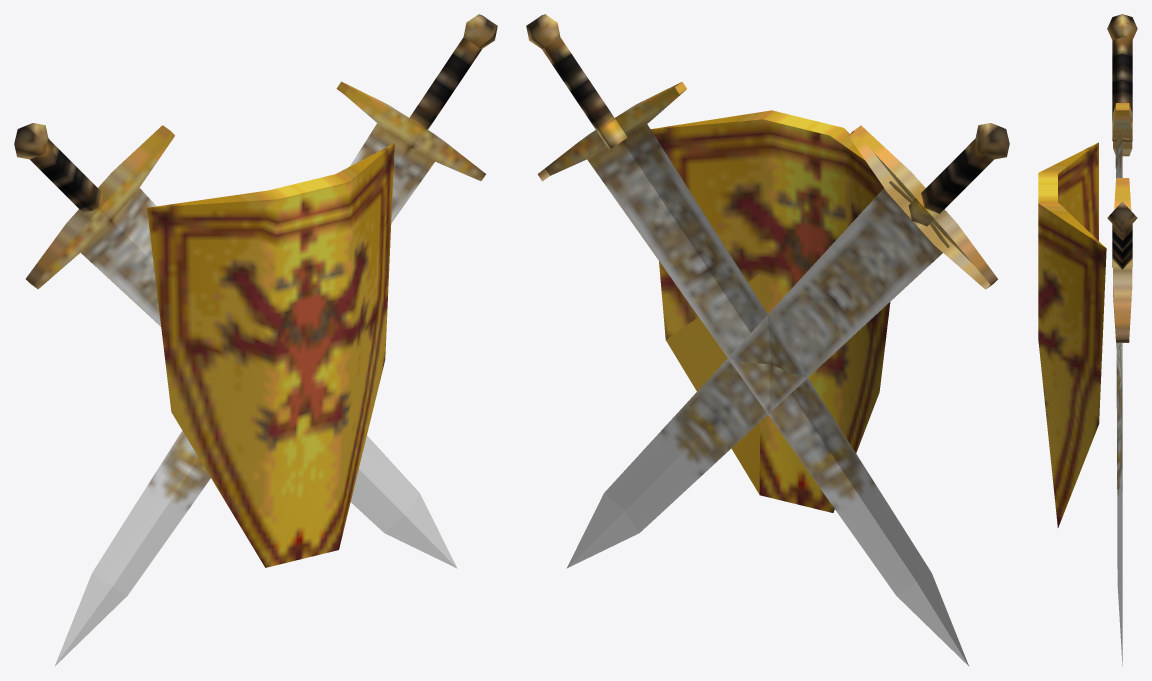
3 renders of one model, left to right at view 1: azimuth 30°, elevation 25°; view 2: azimuth 150°, elevation 25°; view 3: azimuth 270°, elevation 25°, orthographic. The views are drawn at different scales.
Visible parts, largest first — view 1: a39; view 2: a39; view 3: a39.
Boxes of the visible parts, <box> form: a39: <box>14,14,497,666</box>; a39: <box>526,14,1009,665</box>; a39: <box>1038,14,1137,666</box>.
Bounding box in the file's own units: 273 × 297 × 56.42.
